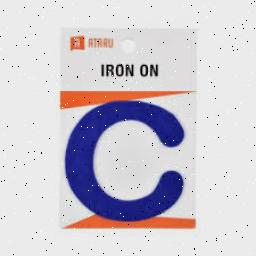c: (58, 96, 188, 224)
i: (96, 62, 110, 78)
n: (148, 62, 162, 80), (124, 64, 136, 80)
o: (116, 64, 126, 78), (140, 64, 148, 78)
r: (106, 61, 114, 79)
